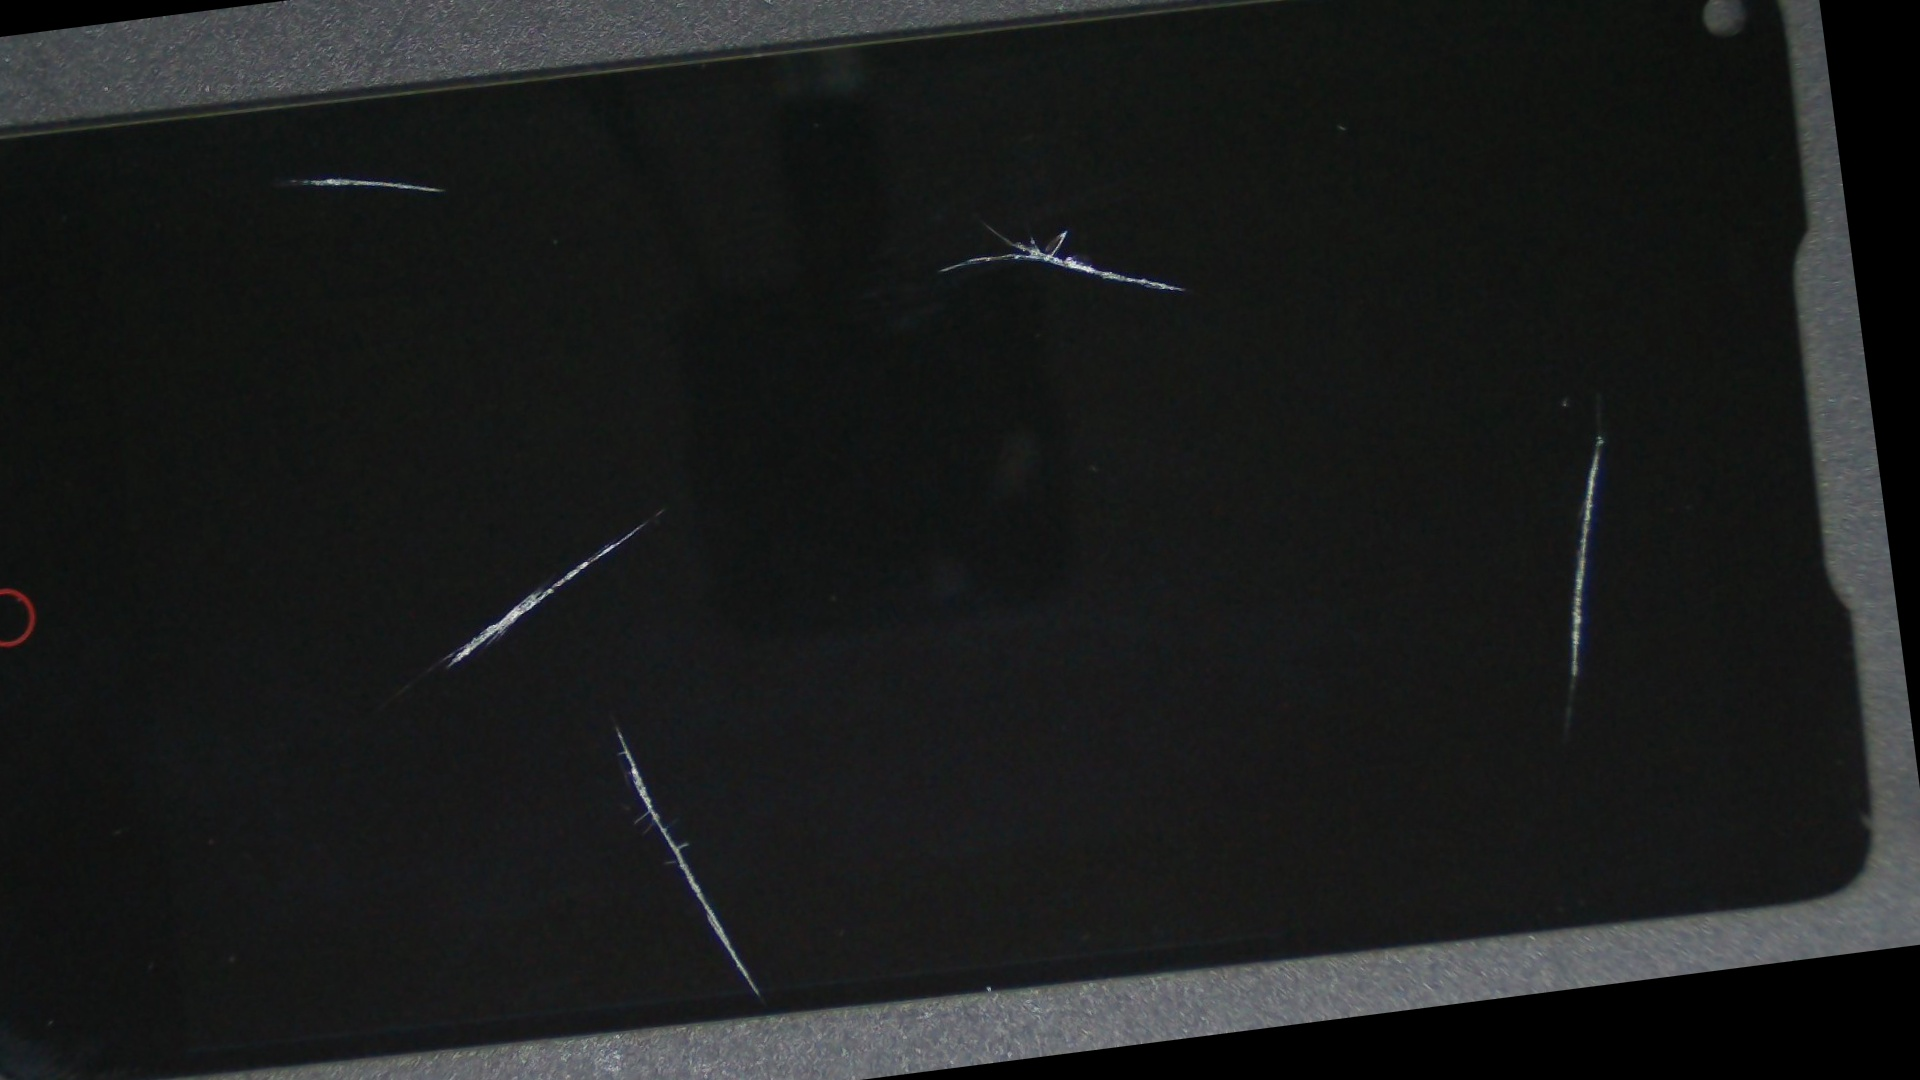oil: (702, 103, 1908, 839), (210, 302, 1018, 1080), (236, 183, 1093, 831), (396, 0, 1576, 452), (47, 61, 530, 301)
